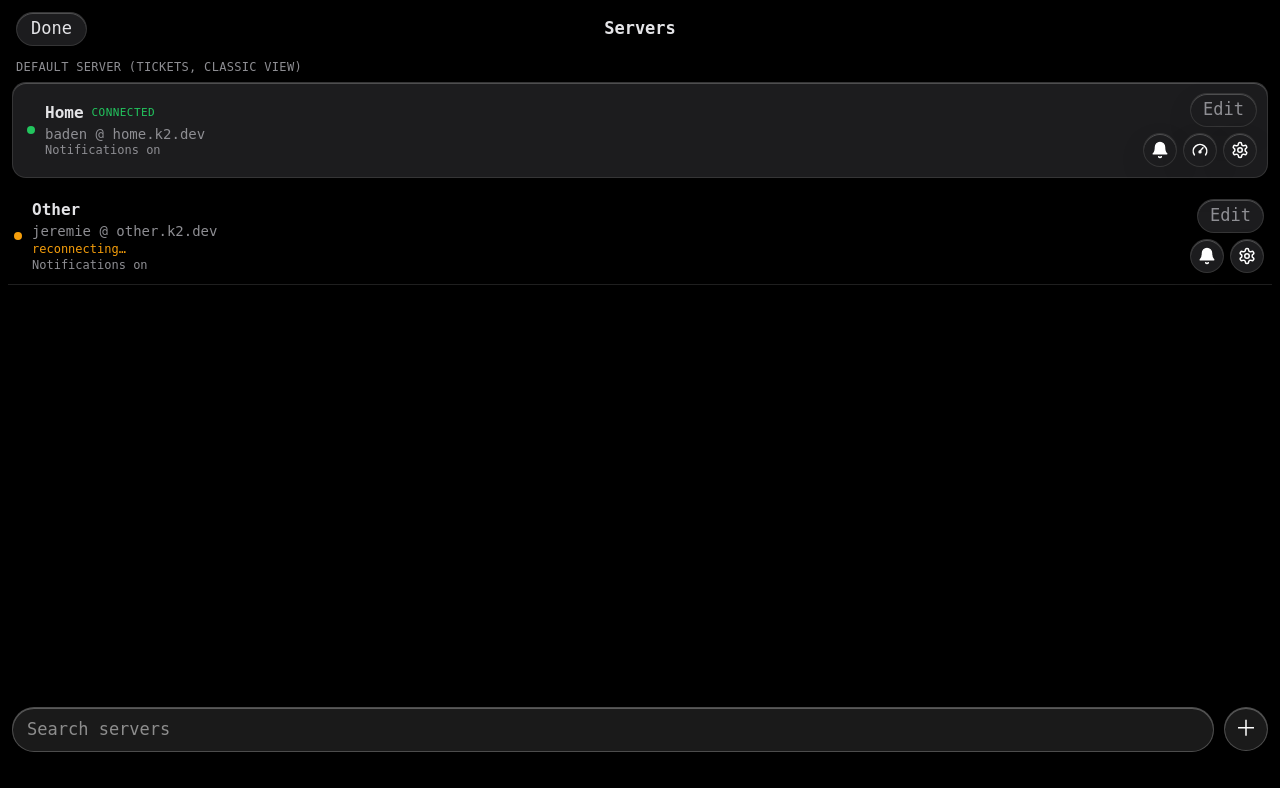
Test: Servers sheet gear → Server settings › Show message previews › the owner's master switch locks it off
expect the 1st button with test id "server-bell" is shown: met, box [1143,133,1177,167]
Click the 1st button with test id "server-settings". click: click(1240, 150)
box: [1223,133,1257,167]
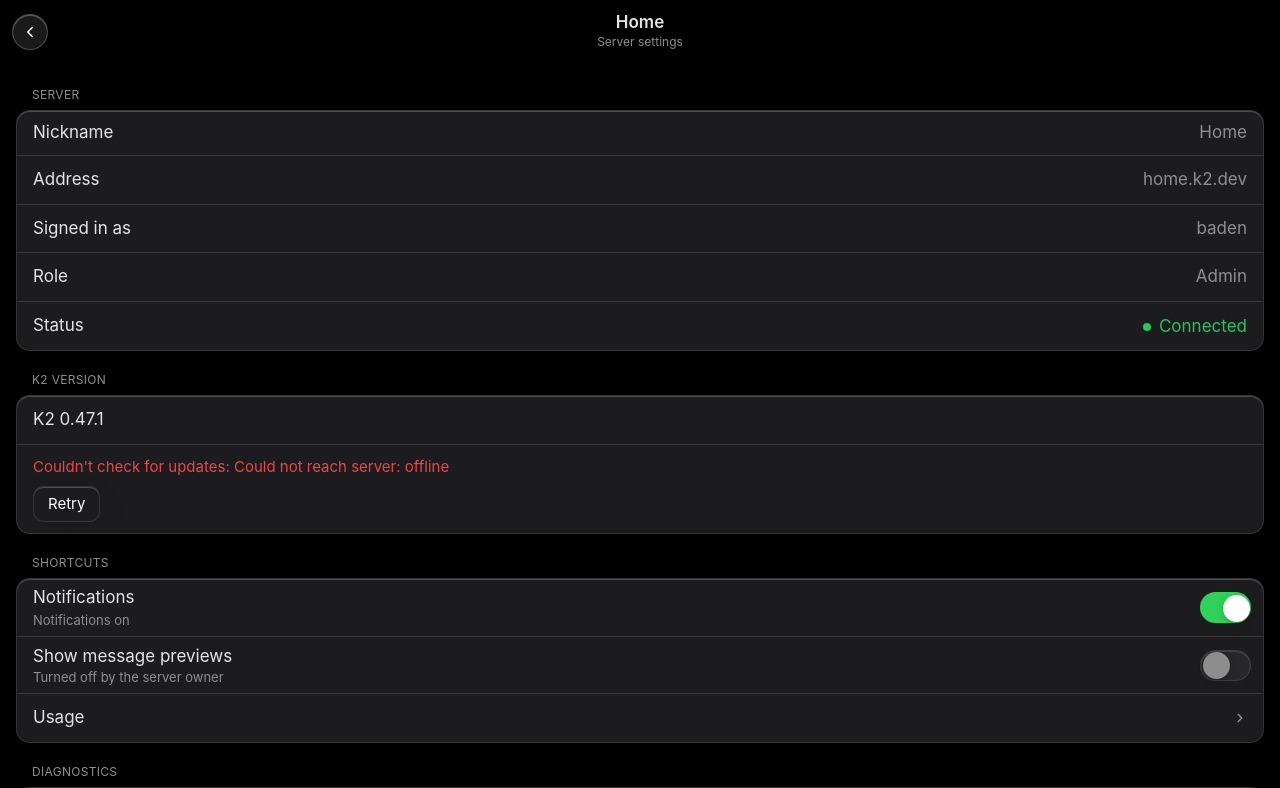
expect the element with test id "server-settings-notify" is shown: met, box [17,579,1263,636]
expect the switch in the row of "Show message previews" is disabled: met, box [1200,643,1251,687]
expect the text with test id "server-settings-previews-status" reads "Turned off by the server owner": met, box [33,669,224,685]
